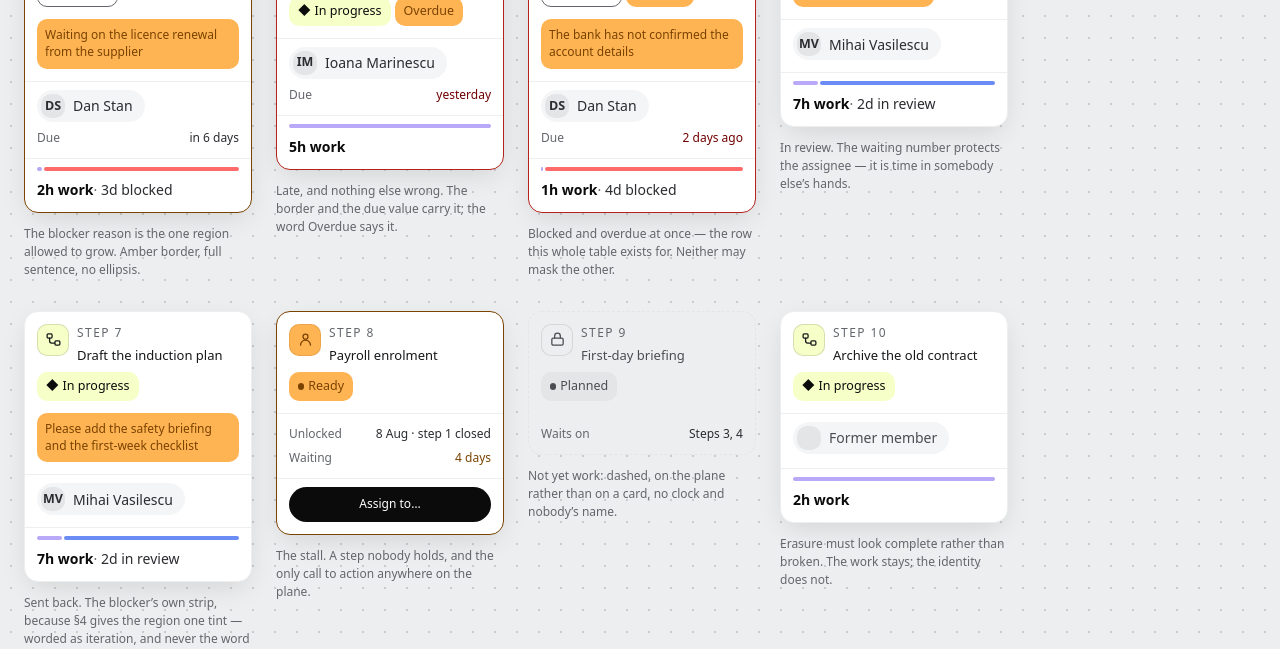
the node gallery › says the press did nothing, rather than letting it do nothing quietly
The width and height of the screenshot is (1280, 649).
(page scrolled)
Step 1. Click the button "Assign to…" → (390, 504), box [289,487,491,522]
(page scrolled)
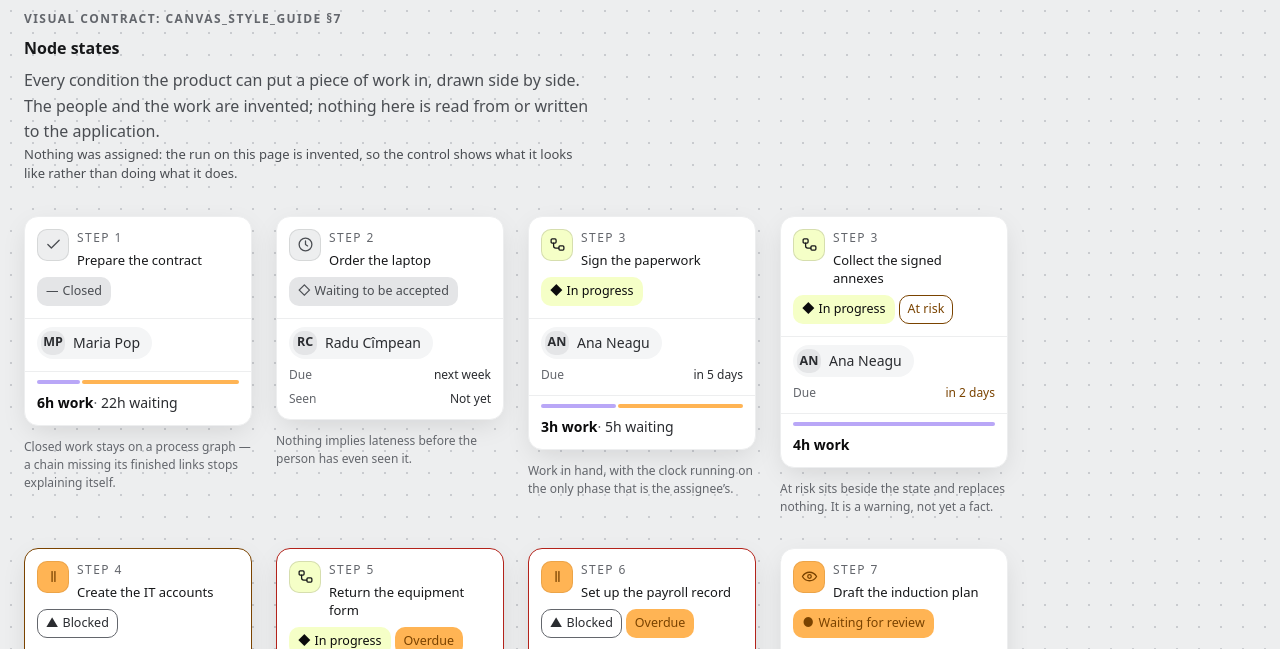
Expected: the message with test id "canvas-inert-notice" shows "Nothing was assigned: the run on this page is invented, so the control shows what it looks like rather than doing what it does.", [24,145,572,182]
